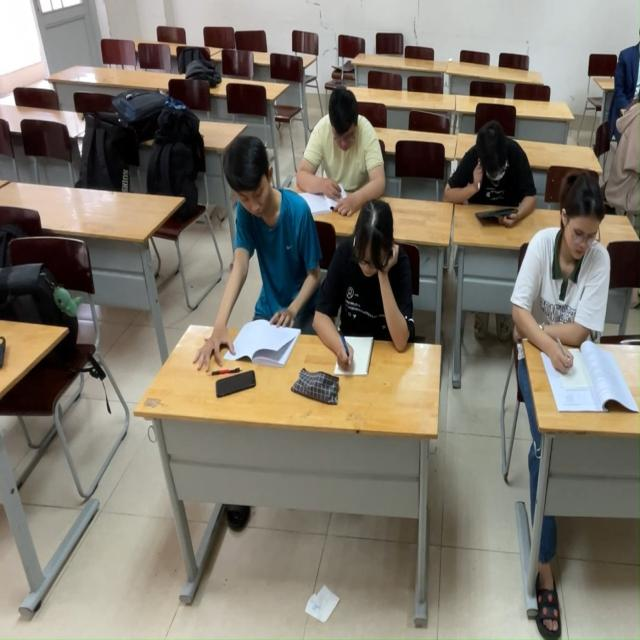read: (513, 180, 640, 429), (305, 197, 426, 388), (297, 82, 394, 219)
